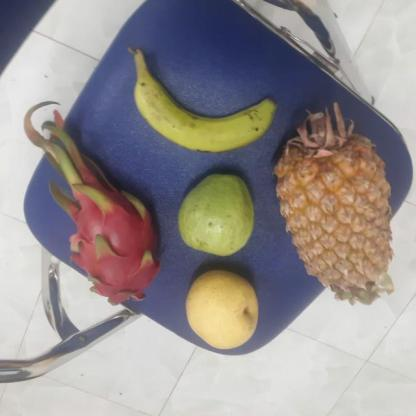banana: (126, 61, 266, 153)
guava: (175, 174, 253, 254)
pear: (180, 268, 261, 348)
pineapple: (276, 114, 390, 298)
pitaya: (64, 190, 161, 305)
